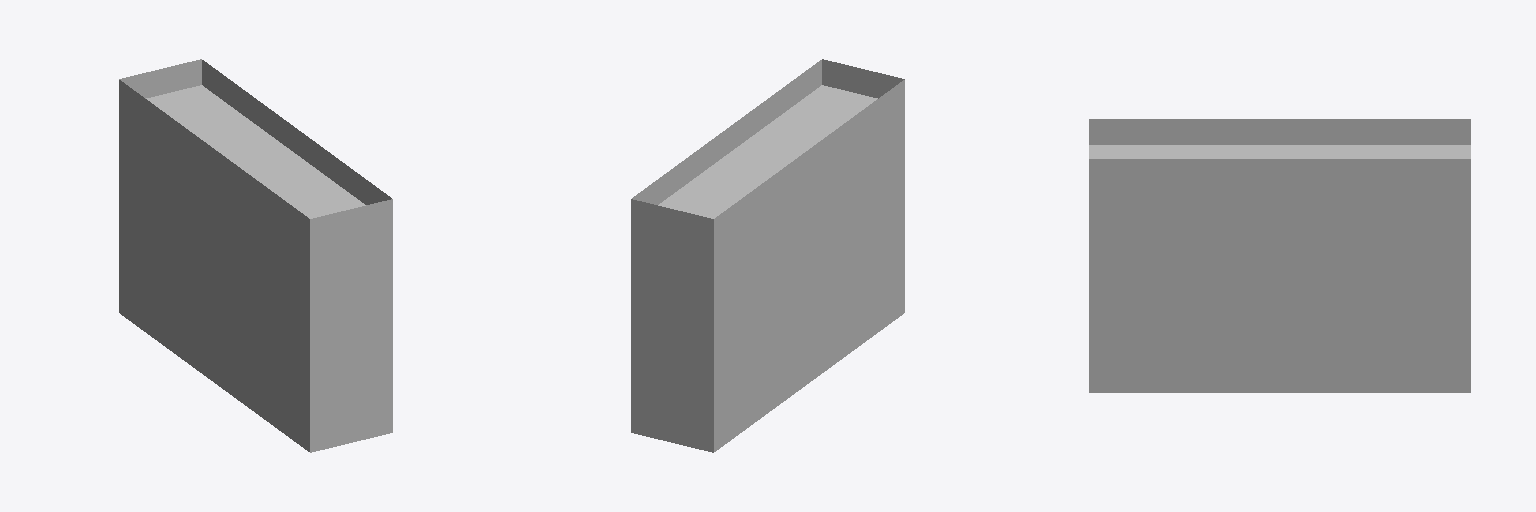
File: Lite2.obj
3 renders of one model, left to right at view 1: azimuth 30°, elevation 25°; view 2: azimuth 150°, elevation 25°; view 3: azimuth 270°, elevation 25°, orthographic.
Visible parts, largest first — view 1: SELECT; view 2: SELECT; view 3: SELECT.
Part boxes in pixels (x1,y1,x2,y2): SELECT: (119,59,392,452); SELECT: (631,59,904,452); SELECT: (1089,119,1470,392).
Size of the model in its own units: 32 by 86.4 by 128.